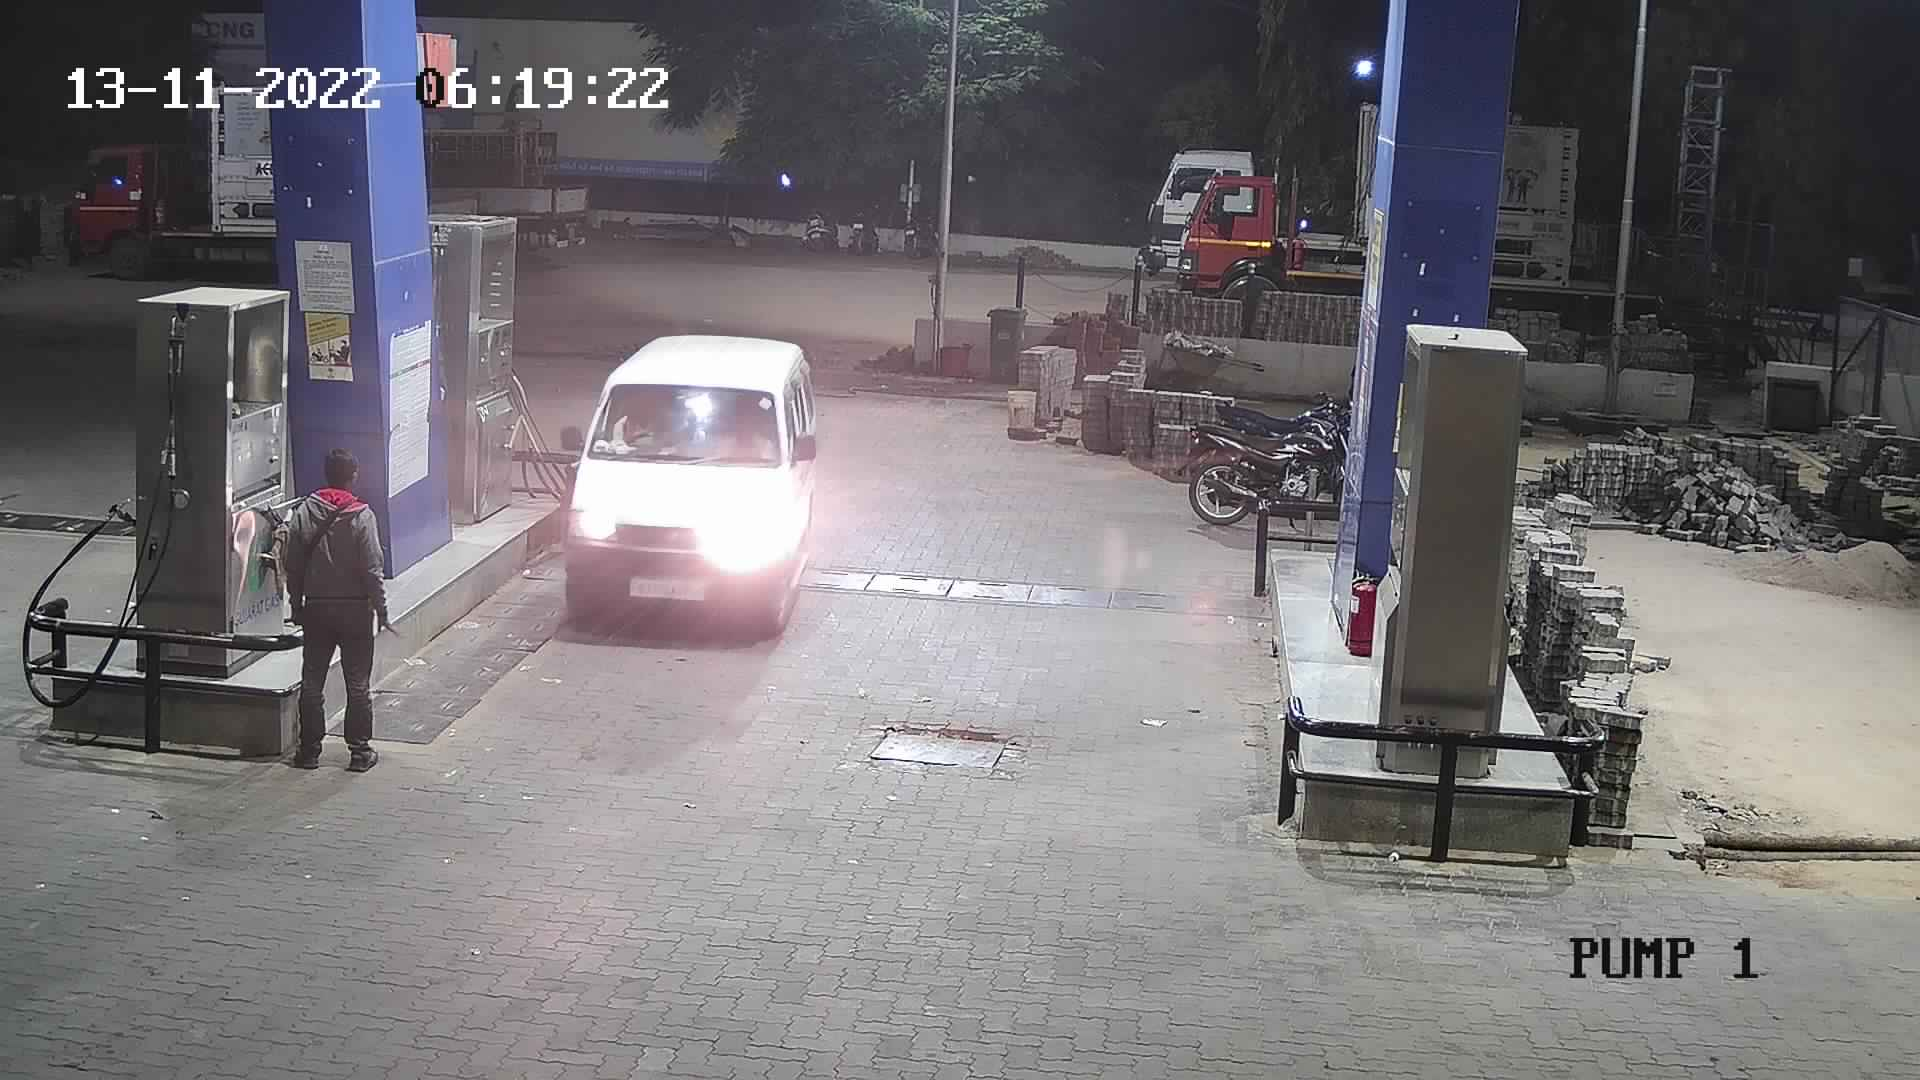Bike: (1175, 361, 1358, 546), (793, 189, 851, 260), (895, 194, 947, 266), (843, 193, 891, 257)
Car: (551, 316, 837, 649)
HMV: (51, 66, 289, 286), (1127, 98, 1385, 299), (1168, 99, 1379, 338), (411, 80, 612, 266)
Others: (272, 443, 396, 777)
